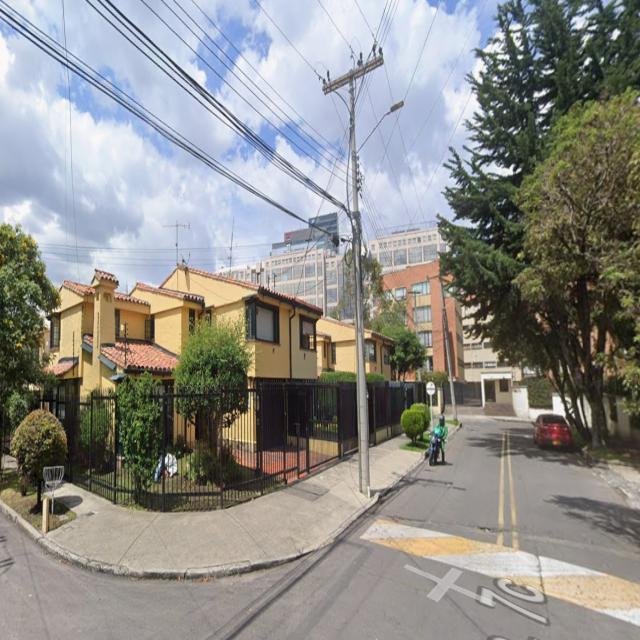fachada: (50, 267, 321, 399), (384, 261, 448, 372), (462, 305, 522, 406), (370, 227, 446, 273), (318, 318, 356, 372)
poste: (323, 49, 383, 496), (350, 77, 370, 496), (440, 279, 457, 420)
